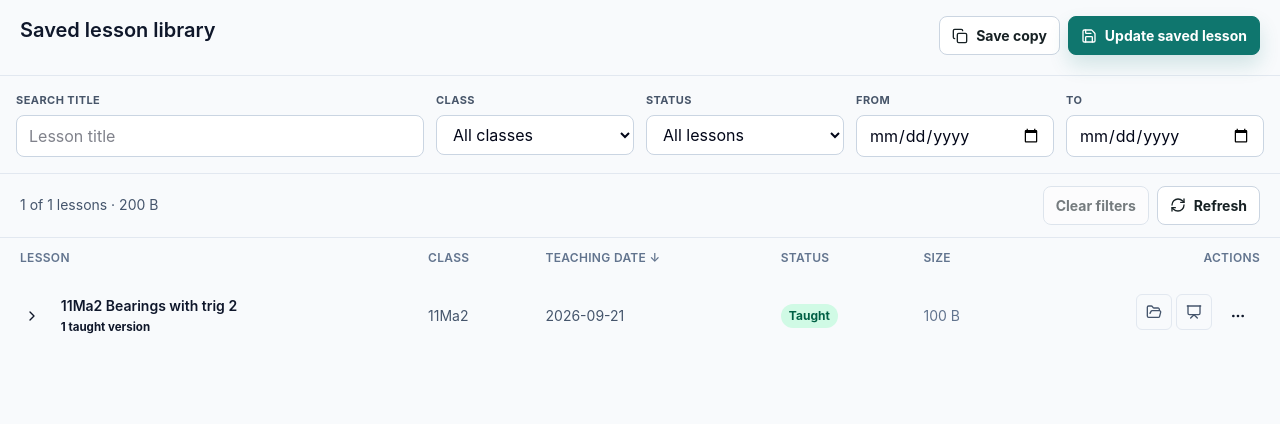
Test case: SavedLessonLibrary production actions › collapses taught presenter snapshots beneath a visibly taught source lesson
Expected: the text "11Ma2 Bearings with trig 2" is shown, [61,297,237,314]
Expected: the text "Taught" is shown, [781,304,838,328]
Click the button named "Show 1 taught version for 11Ma2 Bearings with trig 2": (32, 316) [10,294,54,338]
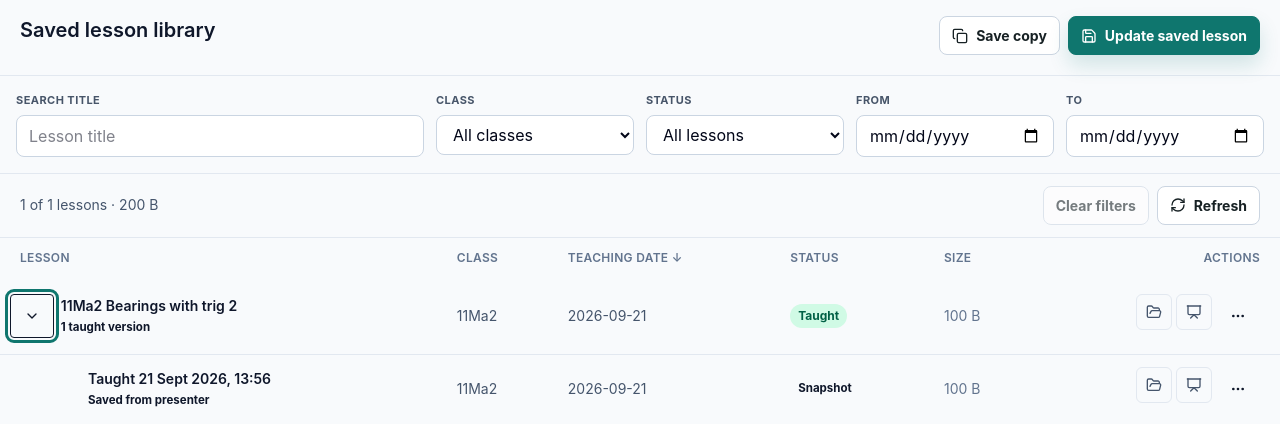
Now the text "Taught 21 Sept 2026, 13:56" is shown, box [88,369,271,389]
Now the button named "Hide 1 taught version for 11Ma2 Bearings with trig 2" is expanded, box [10,294,54,338]
